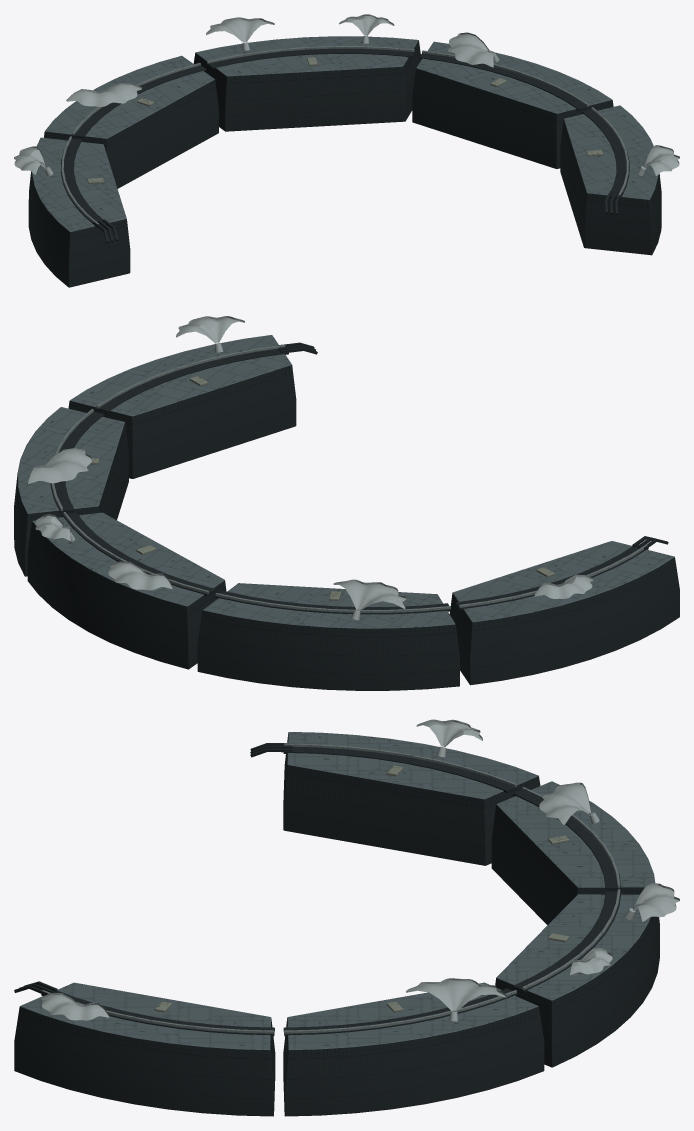
The model's file is borrowed_voice_ring.glb.
The picture shows the model from 3 angles, top to bottom: view 1: azimuth 30°, elevation 25°; view 2: azimuth 150°, elevation 25°; view 3: azimuth 270°, elevation 25°; orthographic projection. The views are drawn at different scales.
Parts seen in each view (by area): view 1: LOD0_MechanicalDark, LOD0_Hull, LOD0_BrushedMetal, LOD0_MOTION_BORROWED_VOICE_FAN_2_Stone, LOD0_MOTION_BORROWED_VOICE_FAN_5_Stone, LOD0_MOTION_BORROWED_VOICE_FAN_4_Stone, LOD0_MOTION_BORROWED_VOICE_FAN_1_Stone, LOD0_MOTION_BORROWED_VOICE_FAN_6_Stone, LOD0_MOTION_BORROWED_VOICE_FAN_3_Stone, LOD0_Armor; view 2: LOD0_MechanicalDark, LOD0_Hull, LOD0_BrushedMetal, LOD0_MOTION_BORROWED_VOICE_FAN_2_Stone, LOD0_MOTION_BORROWED_VOICE_FAN_5_Stone, LOD0_MOTION_BORROWED_VOICE_FAN_4_Stone, LOD0_MOTION_BORROWED_VOICE_FAN_1_Stone, LOD0_MOTION_BORROWED_VOICE_FAN_6_Stone, LOD0_MOTION_BORROWED_VOICE_FAN_3_Stone; view 3: LOD0_MechanicalDark, LOD0_Hull, LOD0_BrushedMetal, LOD0_MOTION_BORROWED_VOICE_FAN_2_Stone, LOD0_MOTION_BORROWED_VOICE_FAN_5_Stone, LOD0_MOTION_BORROWED_VOICE_FAN_4_Stone, LOD0_MOTION_BORROWED_VOICE_FAN_1_Stone, LOD0_MOTION_BORROWED_VOICE_FAN_6_Stone, LOD0_MOTION_BORROWED_VOICE_FAN_3_Stone, LOD0_Armor.
Boxes of the visible parts, x1=… form: LOD0_MechanicalDark: x1=28, y1=40, x2=661, y2=287; LOD0_Hull: x1=32, y1=36, x2=658, y2=231; LOD0_BrushedMetal: x1=61, y1=46, x2=628, y2=224; LOD0_MOTION_BORROWED_VOICE_FAN_2_Stone: x1=448, y1=32, x2=499, y2=67; LOD0_MOTION_BORROWED_VOICE_FAN_5_Stone: x1=66, y1=82, x2=142, y2=106; LOD0_MOTION_BORROWED_VOICE_FAN_4_Stone: x1=206, y1=17, x2=274, y2=50; LOD0_MOTION_BORROWED_VOICE_FAN_1_Stone: x1=637, y1=145, x2=679, y2=176; LOD0_MOTION_BORROWED_VOICE_FAN_6_Stone: x1=14, y1=146, x2=53, y2=176; LOD0_MOTION_BORROWED_VOICE_FAN_3_Stone: x1=339, y1=14, x2=394, y2=43; LOD0_Armor: x1=87, y1=57, x2=602, y2=183; LOD0_MechanicalDark: x1=14, y1=342, x2=679, y2=690; LOD0_Hull: x1=17, y1=335, x2=674, y2=628; LOD0_BrushedMetal: x1=51, y1=344, x2=647, y2=612; LOD0_MOTION_BORROWED_VOICE_FAN_2_Stone: x1=28, y1=448, x2=92, y2=483; LOD0_MOTION_BORROWED_VOICE_FAN_5_Stone: x1=333, y1=579, x2=406, y2=620; LOD0_MOTION_BORROWED_VOICE_FAN_4_Stone: x1=108, y1=561, x2=173, y2=590; LOD0_MOTION_BORROWED_VOICE_FAN_1_Stone: x1=176, y1=316, x2=244, y2=353; LOD0_MOTION_BORROWED_VOICE_FAN_6_Stone: x1=534, y1=574, x2=593, y2=598; LOD0_MOTION_BORROWED_VOICE_FAN_3_Stone: x1=35, y1=514, x2=75, y2=542; LOD0_MechanicalDark: x1=14, y1=734, x2=659, y2=1116; LOD0_Hull: x1=20, y1=732, x2=655, y2=1050; LOD0_BrushedMetal: x1=42, y1=743, x2=620, y2=1033; LOD0_MOTION_BORROWED_VOICE_FAN_2_Stone: x1=406, y1=978, x2=506, y2=1021; LOD0_MOTION_BORROWED_VOICE_FAN_5_Stone: x1=539, y1=782, x2=599, y2=824; LOD0_MOTION_BORROWED_VOICE_FAN_4_Stone: x1=624, y1=883, x2=679, y2=921; LOD0_MOTION_BORROWED_VOICE_FAN_1_Stone: x1=41, y1=993, x2=109, y2=1020; LOD0_MOTION_BORROWED_VOICE_FAN_6_Stone: x1=416, y1=719, x2=482, y2=757; LOD0_MOTION_BORROWED_VOICE_FAN_3_Stone: x1=570, y1=947, x2=612, y2=976; LOD0_Armor: x1=155, y1=765, x2=569, y2=1012.
Size of what is drawn, in the model's own units: 35.99 by 4.69 by 31.49.
Materials: 6 (4 with a texture image).
